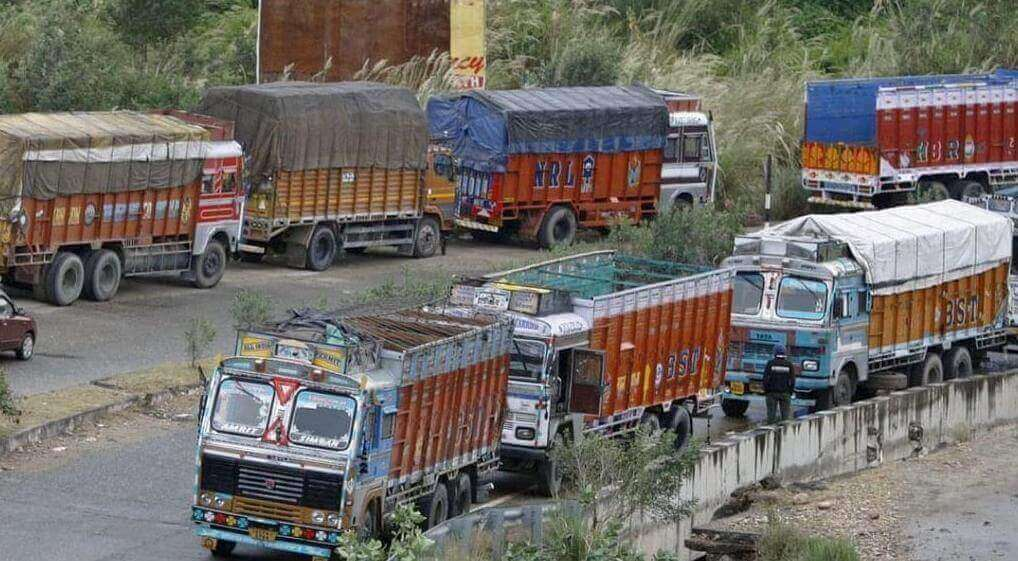truck: (458, 279, 723, 487), (195, 333, 391, 553), (2, 113, 242, 292), (433, 90, 712, 241), (238, 86, 458, 257), (731, 236, 885, 415), (806, 80, 1017, 210)
